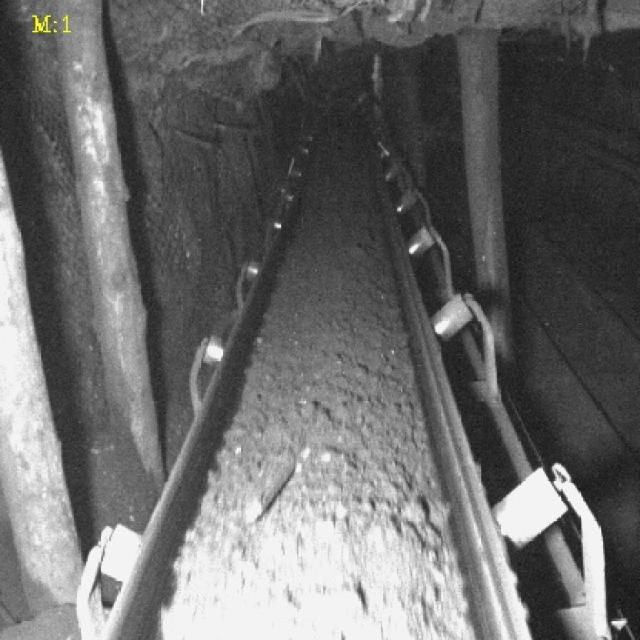bolt: (240, 457, 300, 523)
